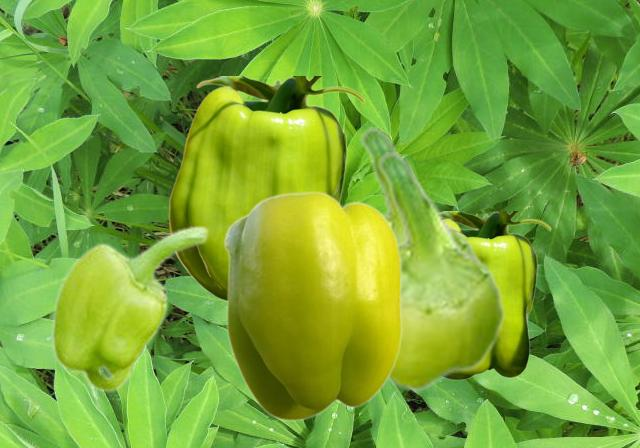bell_pepper: (168, 76, 364, 301), (223, 190, 401, 420), (371, 152, 505, 391), (50, 224, 209, 392), (442, 211, 550, 379), (353, 127, 482, 258)
